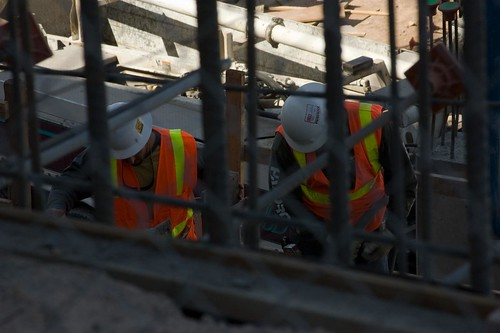person hardhat: (280, 83, 343, 156), (103, 101, 153, 166)
